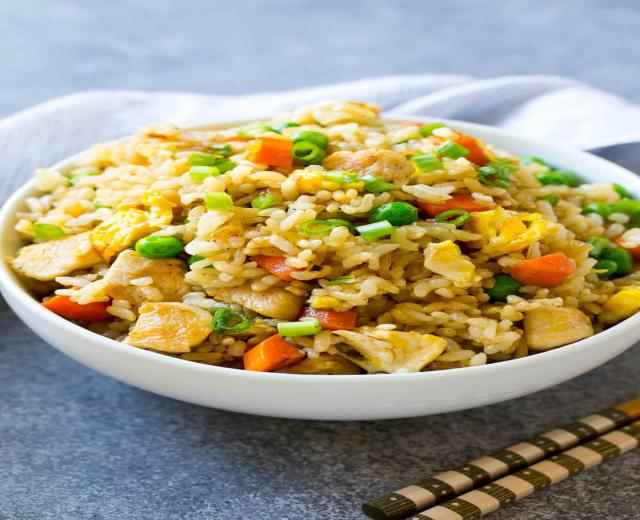fried rice: (13, 101, 628, 370)
